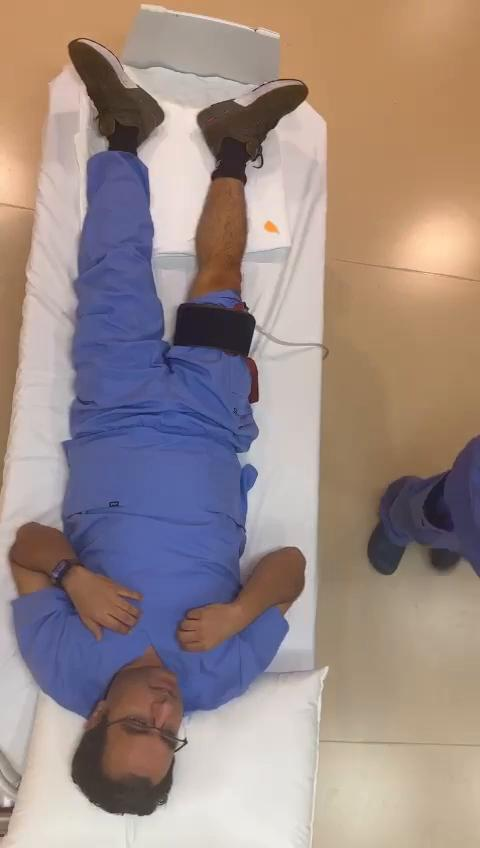patient: (10, 40, 308, 814)
tourniquet: (174, 303, 255, 355)
